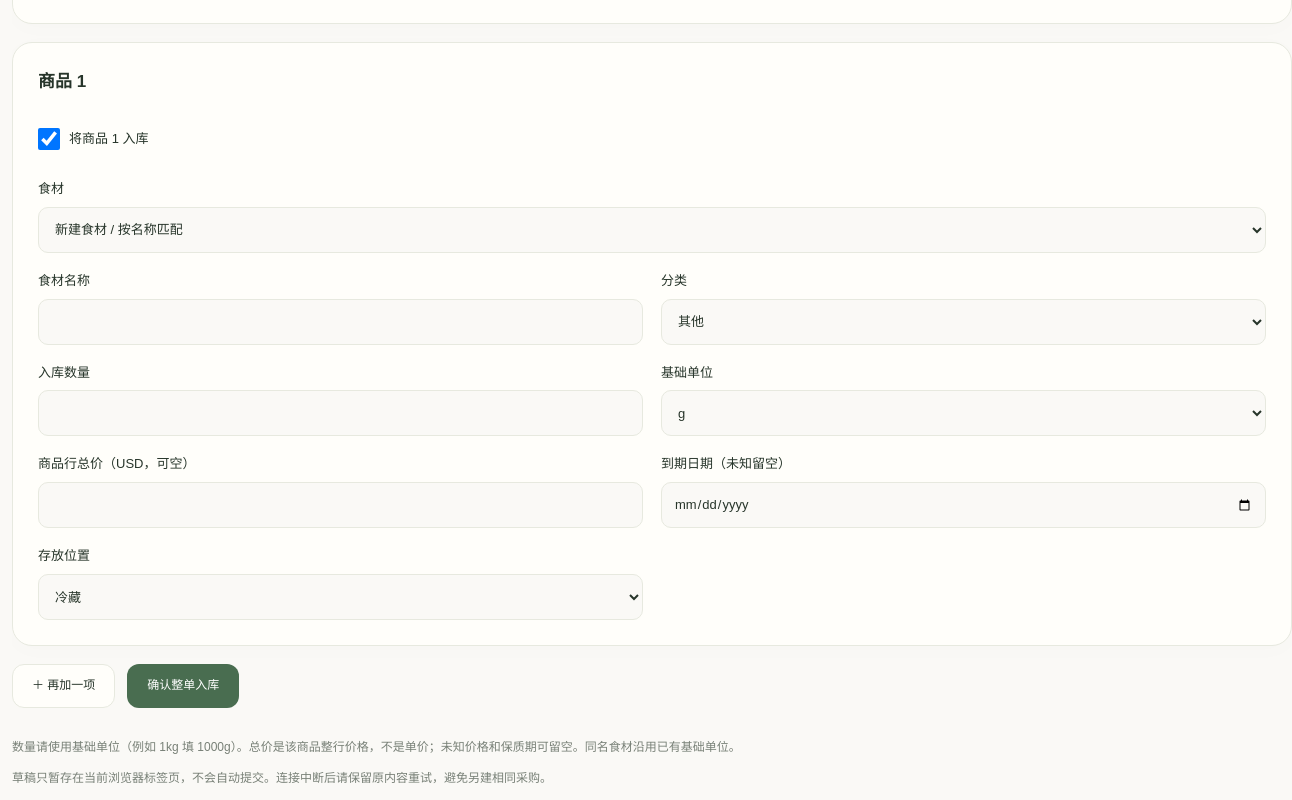
Test case: purchase drafts and retry UX › adds and removes rows before confirming the entire order
(page scrolled)
Click the button "＋ 再加一项".
click(64, 686)  # box [12,664,115,708]
(page scrolled)
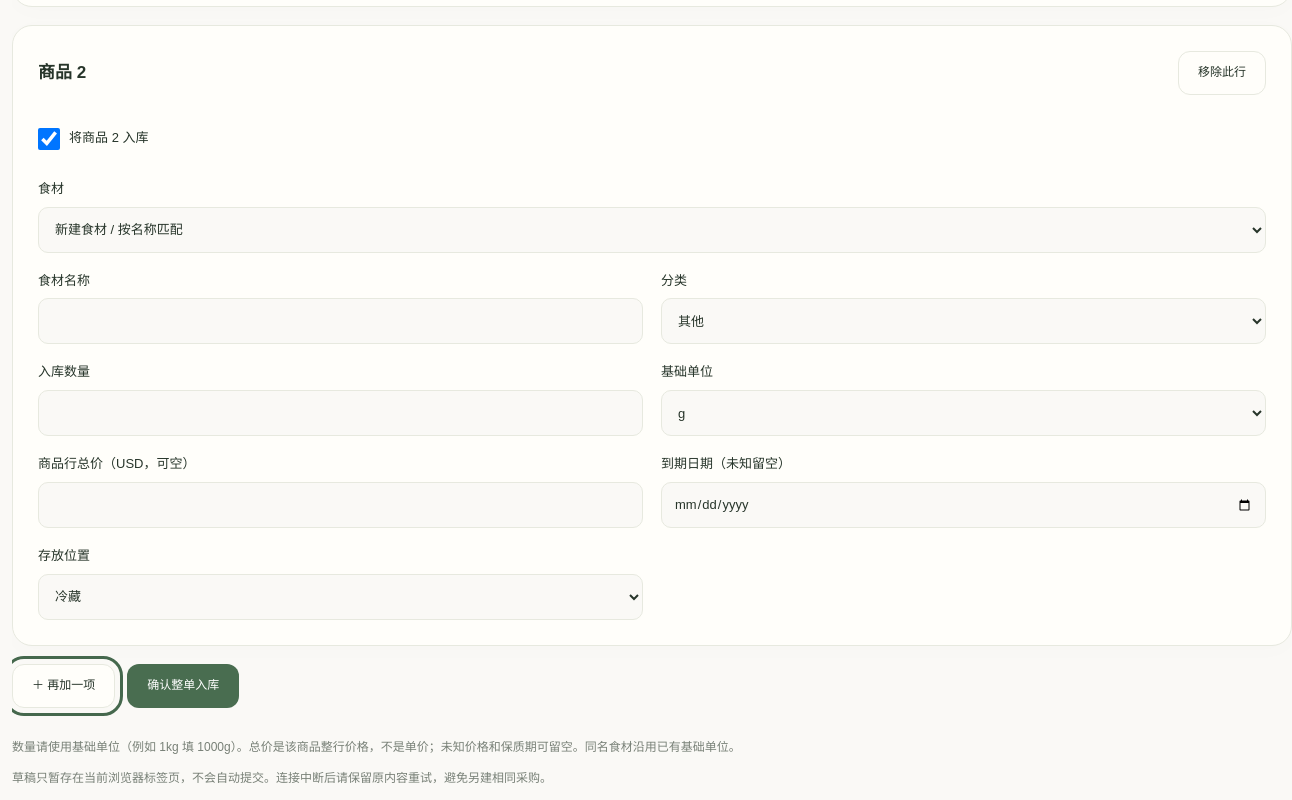
Result: the number of fields labelled "食材名称" is 2
Click the button "移除此行".
click(1222, 73)  # box [1178,51,1266,95]
(page scrolled)
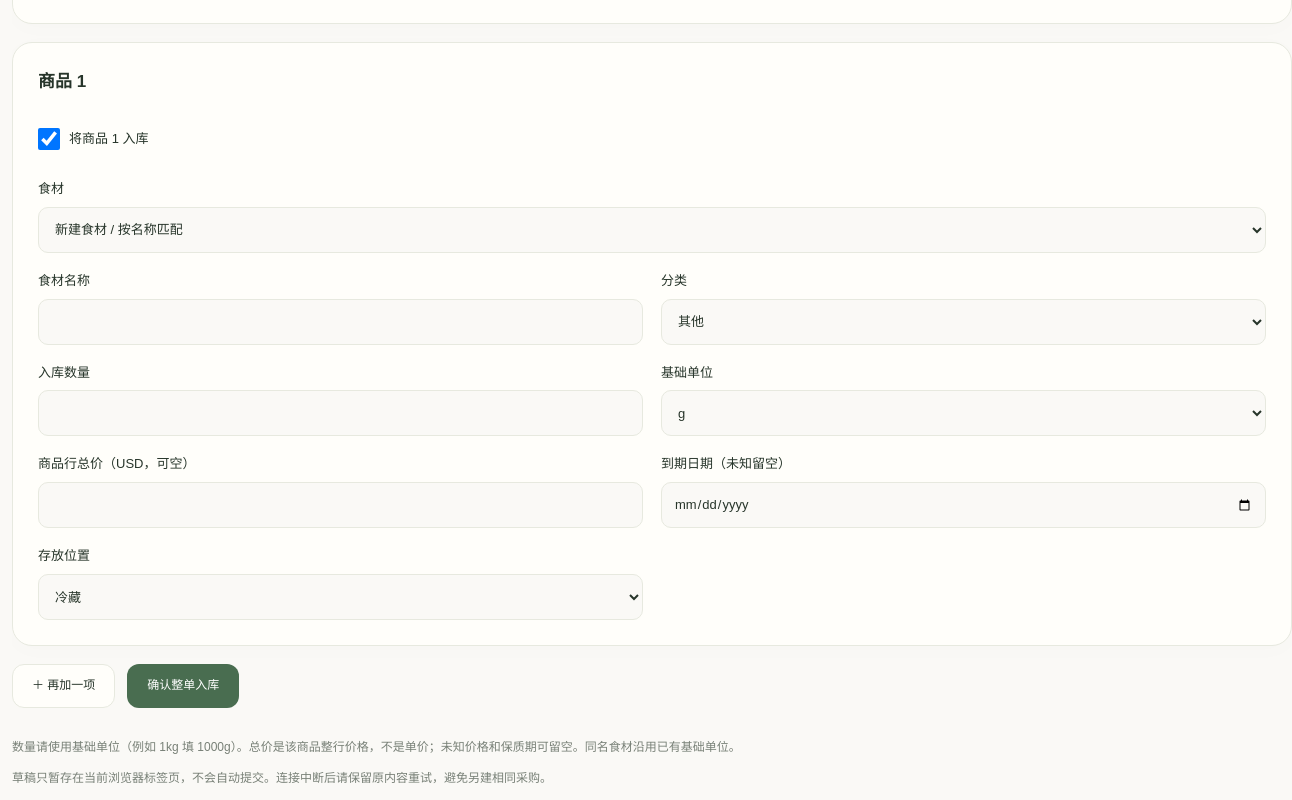
Result: the number of fields labelled "食材名称" is 1 at [38,299,643,345]
